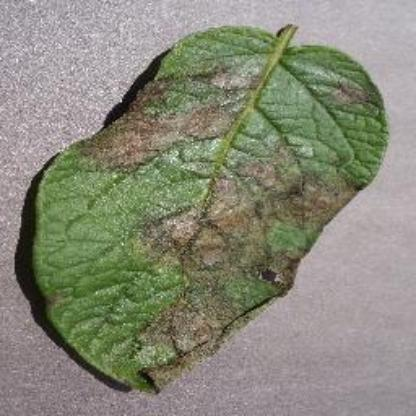Late-Blight: (25, 23, 388, 395)
